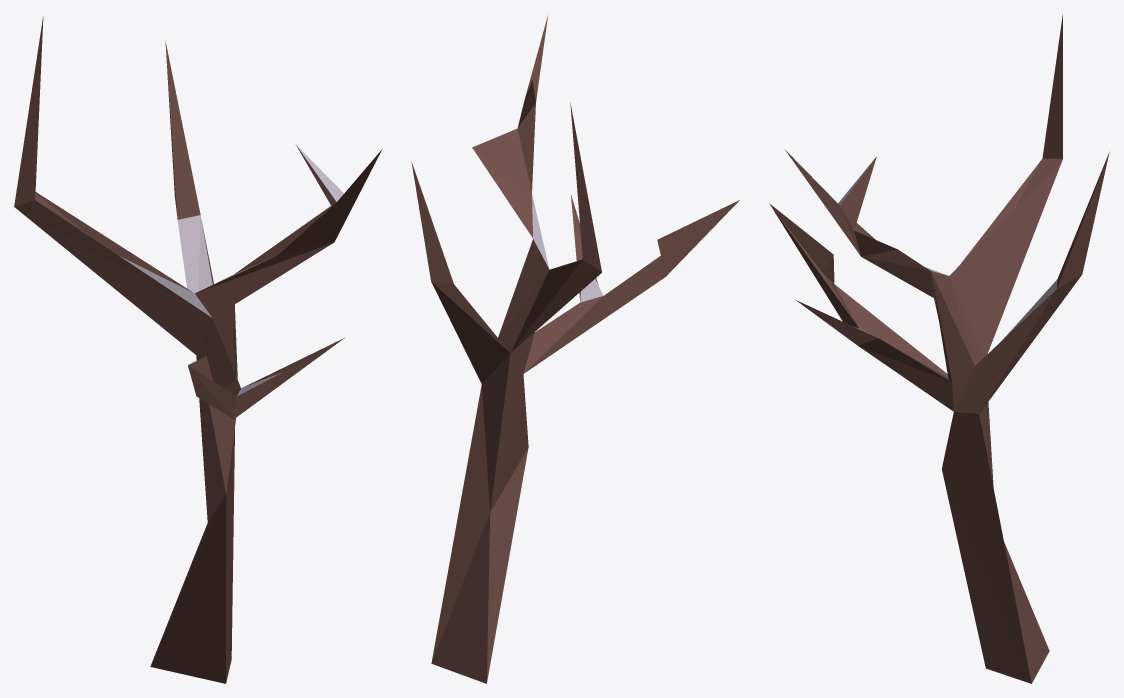
The model's file is CommonTree_Dead_Snow_5.lod3.glb.
3 views of the same model, side by side, from view 1: azimuth 30°, elevation 25°; view 2: azimuth 150°, elevation 25°; view 3: azimuth 270°, elevation 25° (orthographic). The views are drawn at different scales.
Visible parts, largest first — view 1: CommonTree_Dead_Snow_5; view 2: CommonTree_Dead_Snow_5; view 3: CommonTree_Dead_Snow_5.
Part boxes in pixels (x1,y1,x2,y2): CommonTree_Dead_Snow_5: (14, 16, 382, 683); CommonTree_Dead_Snow_5: (411, 16, 739, 683); CommonTree_Dead_Snow_5: (769, 14, 1109, 683).
Bounding box in the file's own units: 0.8347 × 2.3 × 1.19.
